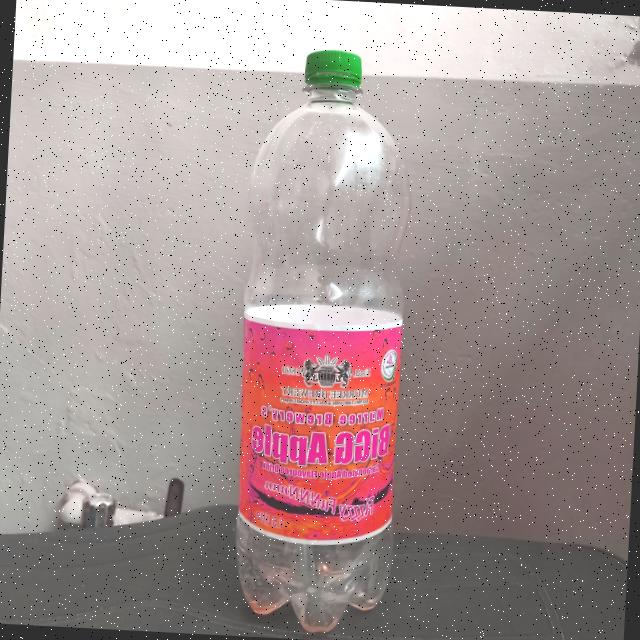bottle: (213, 17, 436, 640)
cap: (300, 39, 369, 94)
label: (224, 308, 414, 551)
